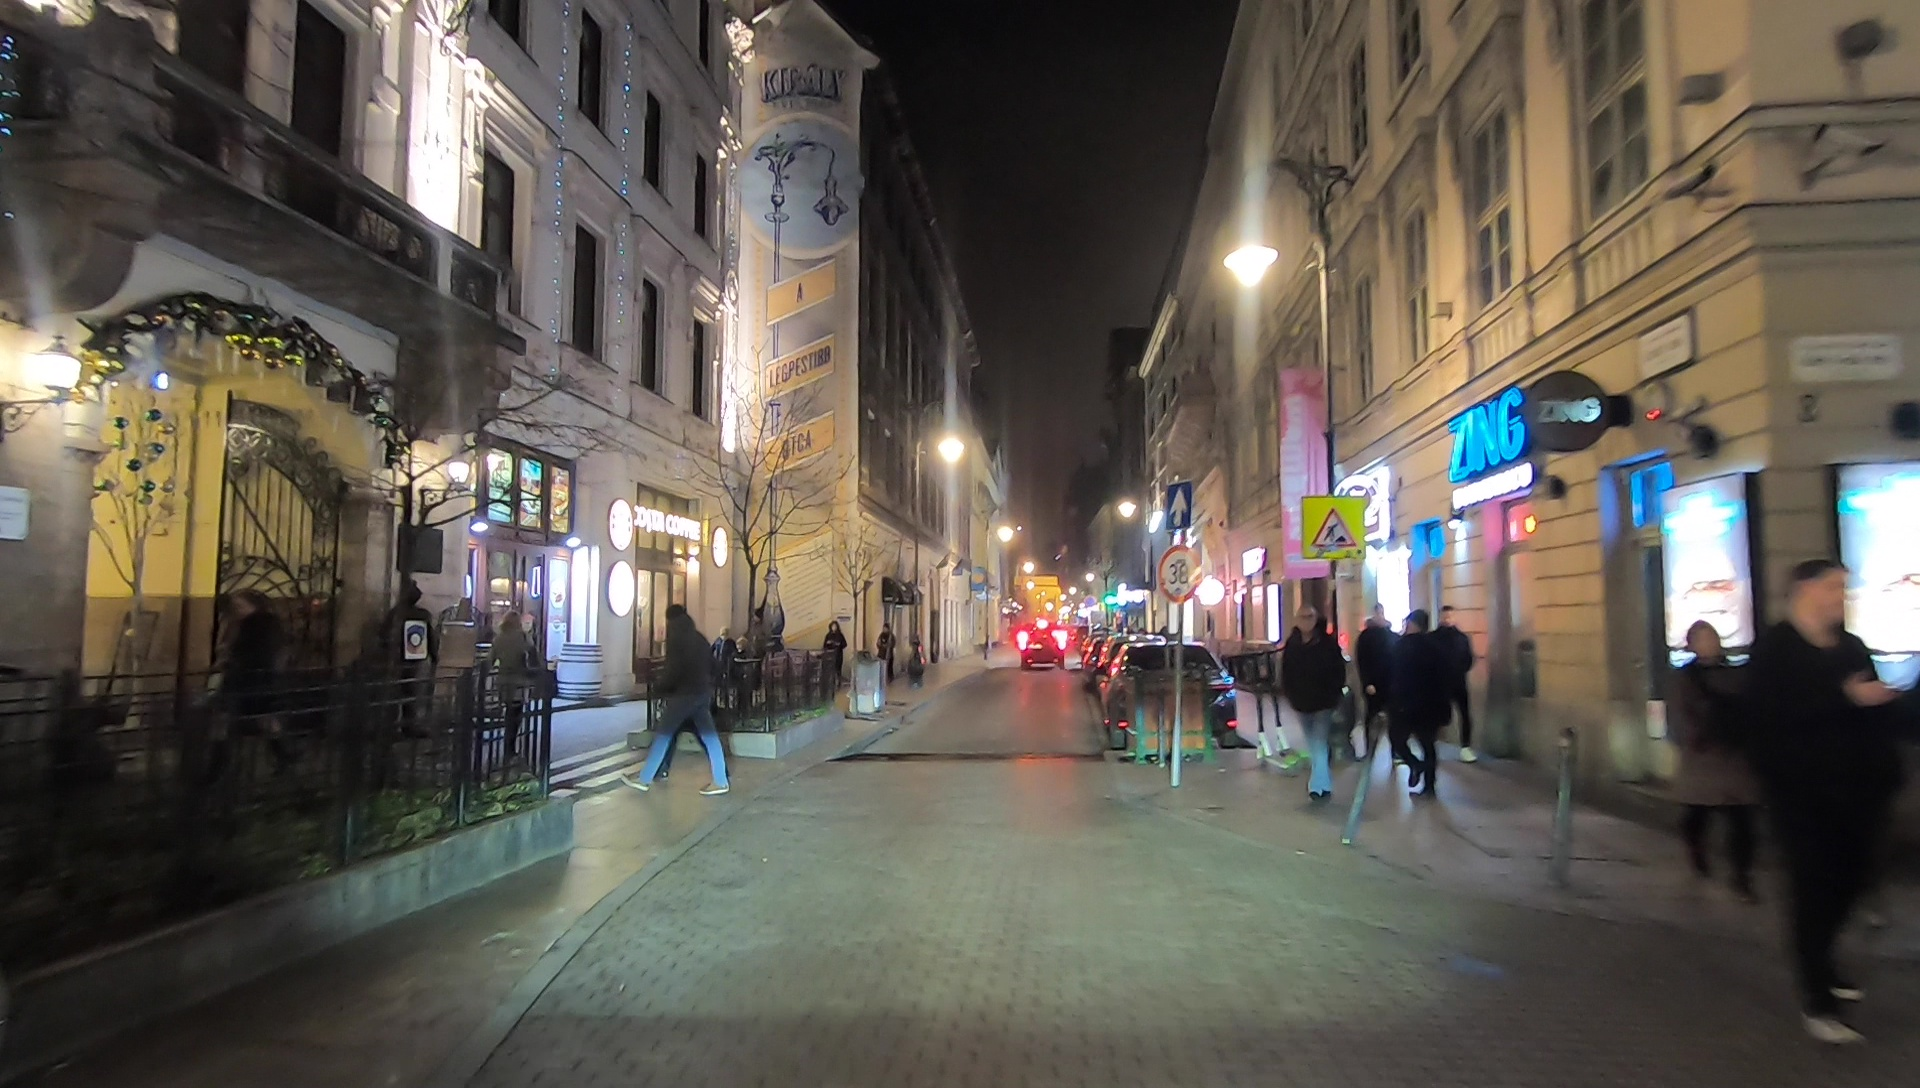person: (1747, 554, 1899, 1043), (1660, 617, 1758, 897), (628, 600, 741, 797), (1278, 602, 1351, 811), (1397, 602, 1452, 808), (214, 595, 278, 741), (1434, 606, 1491, 769), (493, 610, 545, 741), (823, 615, 841, 693), (876, 623, 897, 684)
